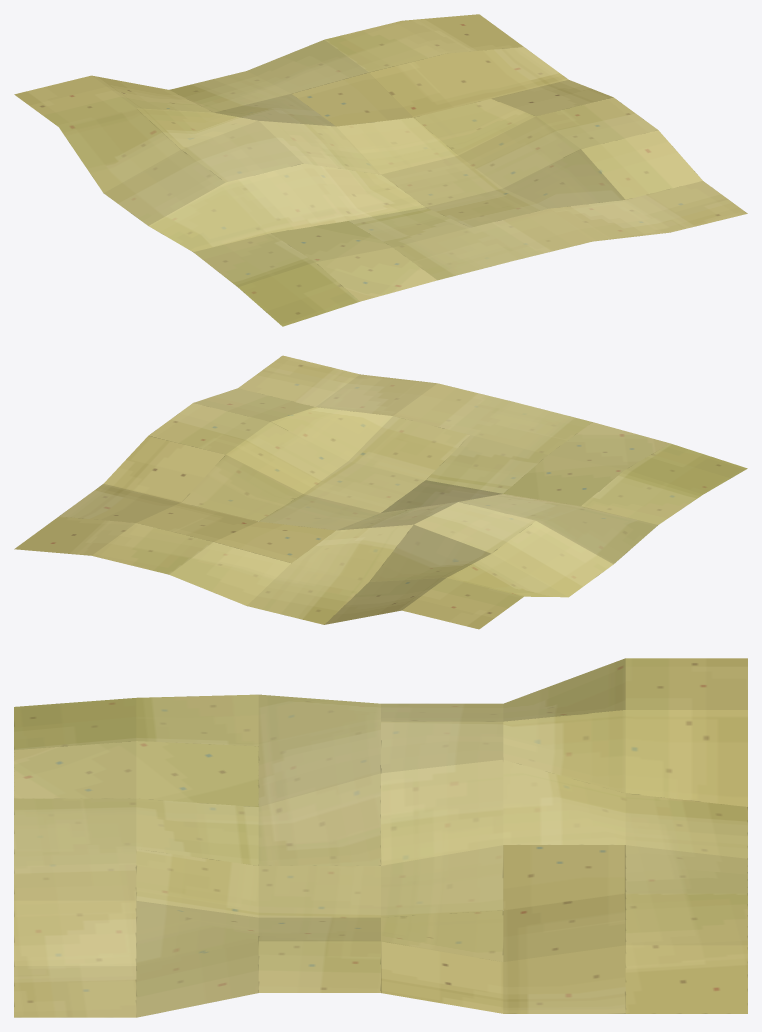
The model's file is Floor.obj.
3 views of the same model, one above another, from view 1: azimuth 30°, elevation 25°; view 2: azimuth 150°, elevation 25°; view 3: azimuth 270°, elevation 25° (orthographic). The views are drawn at different scales.
Visible parts, largest first — view 1: Floor; view 2: Floor; view 3: Floor.
Boxes of the visible parts, box(x1,y1,x2,y2) form: Floor: box(14, 14, 747, 326); Floor: box(14, 355, 747, 629); Floor: box(14, 658, 747, 1017).
Size of the model in its own units: 16 by 1.31 by 16.
1 material, 1 textured.
